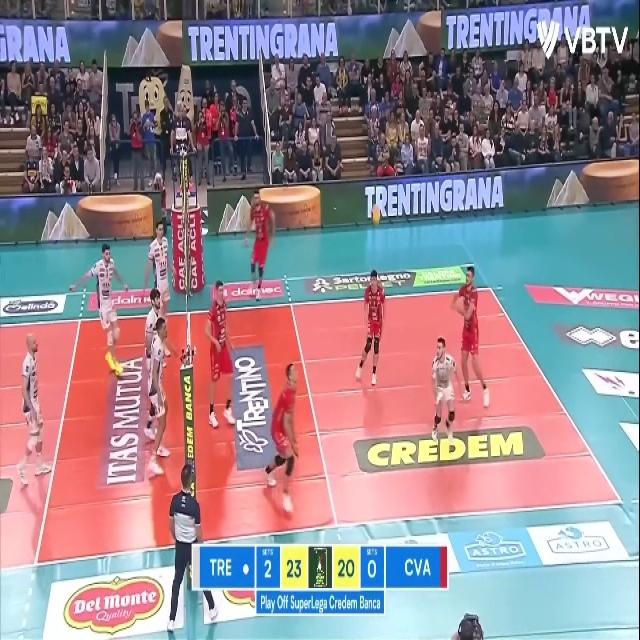volleyball court: (0, 283, 625, 566)
